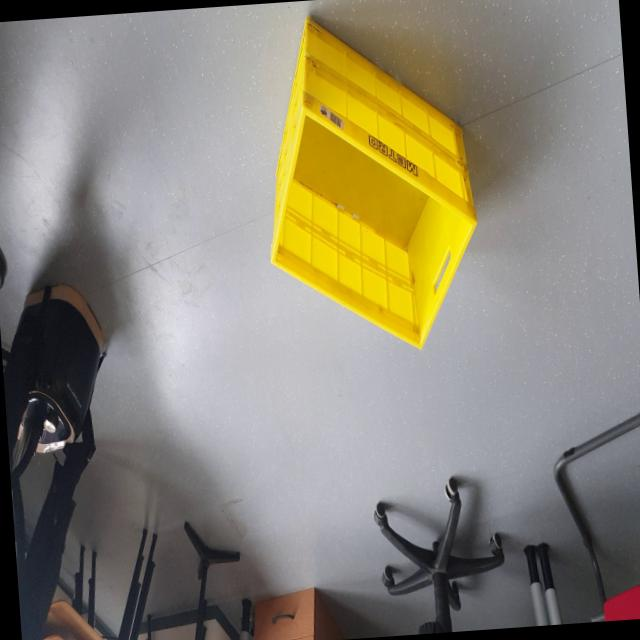box: (249, 0, 507, 379)
